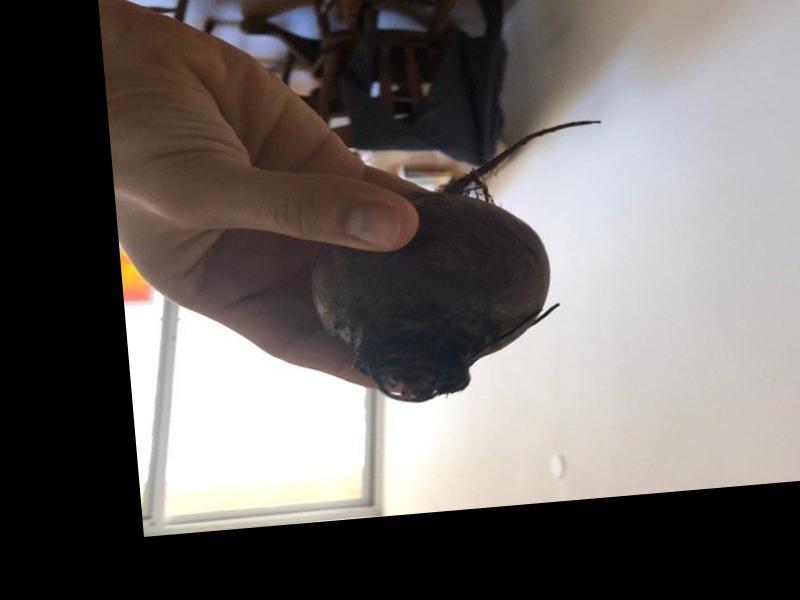Beet: (300, 119, 623, 410)
